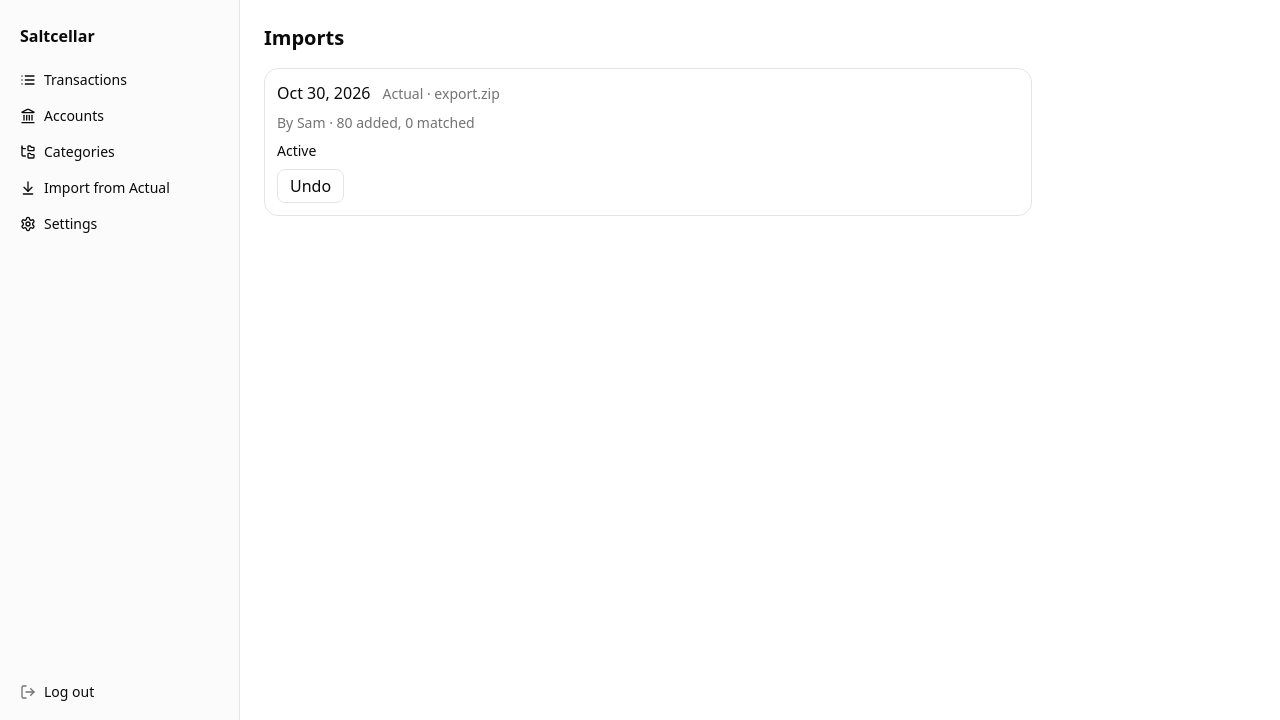
Settings › Imports › shows what else goes wrong
The image size is (1280, 720).
Click the button "Undo": (311, 186) top-left (277, 169), bottom-right (344, 203)
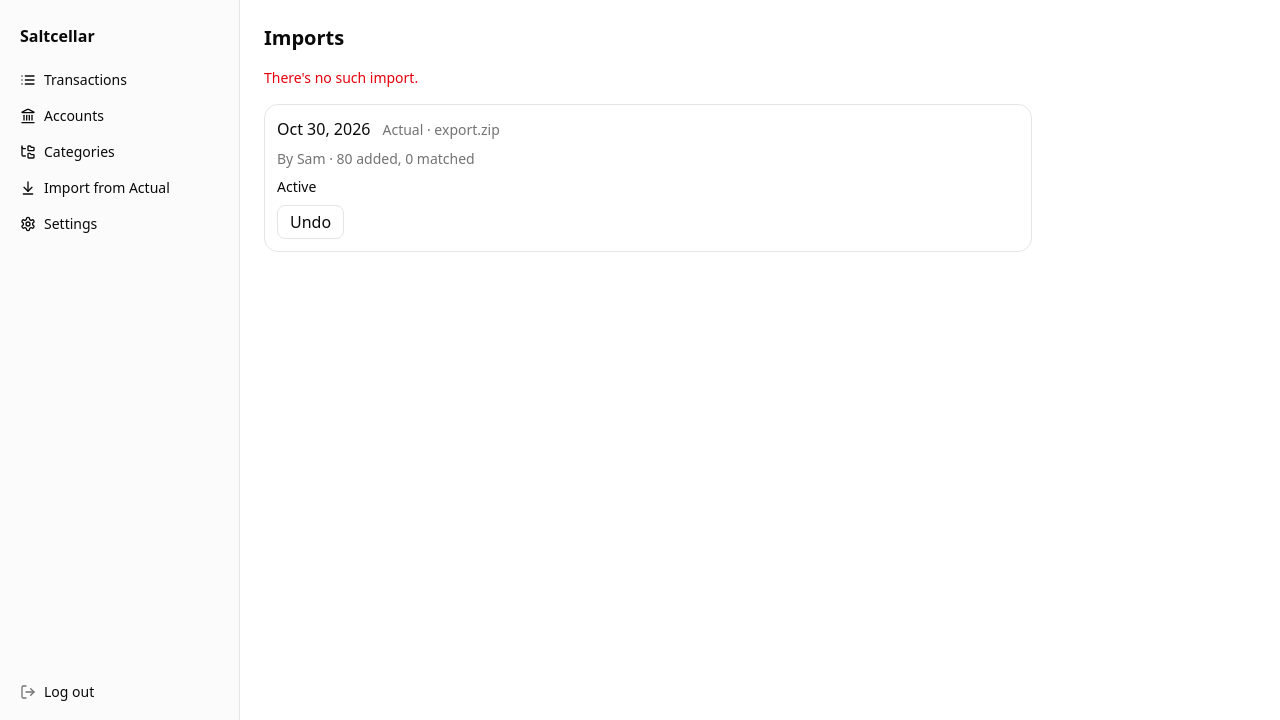
expect the message "There's no such import." is shown: met, box top-left (264, 68), bottom-right (418, 87)
